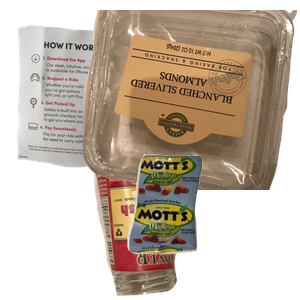glass: (91, 142, 260, 300)
paper: (14, 22, 247, 191)
plastic: (83, 10, 300, 190)
trash: (125, 152, 300, 300)
